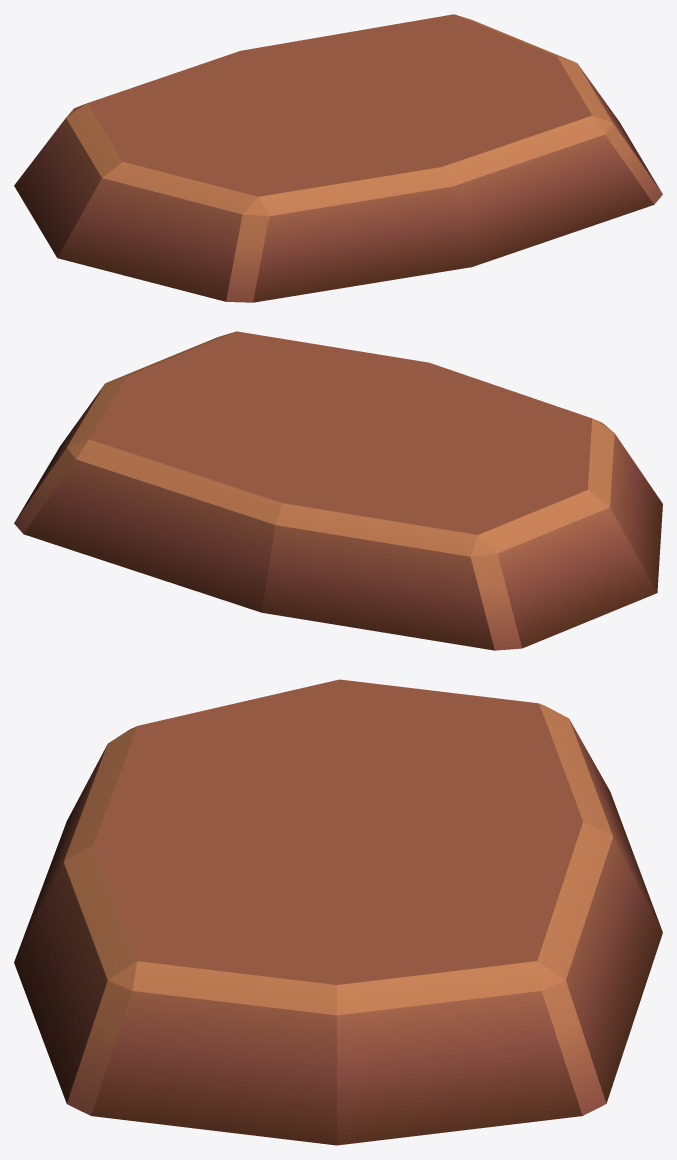
Rendered from Roadstones-2-6.fbx.
3 views of the same model, one above another, from view 1: azimuth 30°, elevation 25°; view 2: azimuth 150°, elevation 25°; view 3: azimuth 270°, elevation 25° (orthographic). The views are drawn at different scales.
Visible parts, largest first — view 1: Roadstones-2-6; view 2: Roadstones-2-6; view 3: Roadstones-2-6.
Part boxes in pixels (box(x1,y1,x2,y2)): Roadstones-2-6: box(14, 14, 662, 302); Roadstones-2-6: box(14, 331, 662, 650); Roadstones-2-6: box(14, 679, 662, 1145).
Bounding box in the file's own units: 131 × 18.02 × 91.
